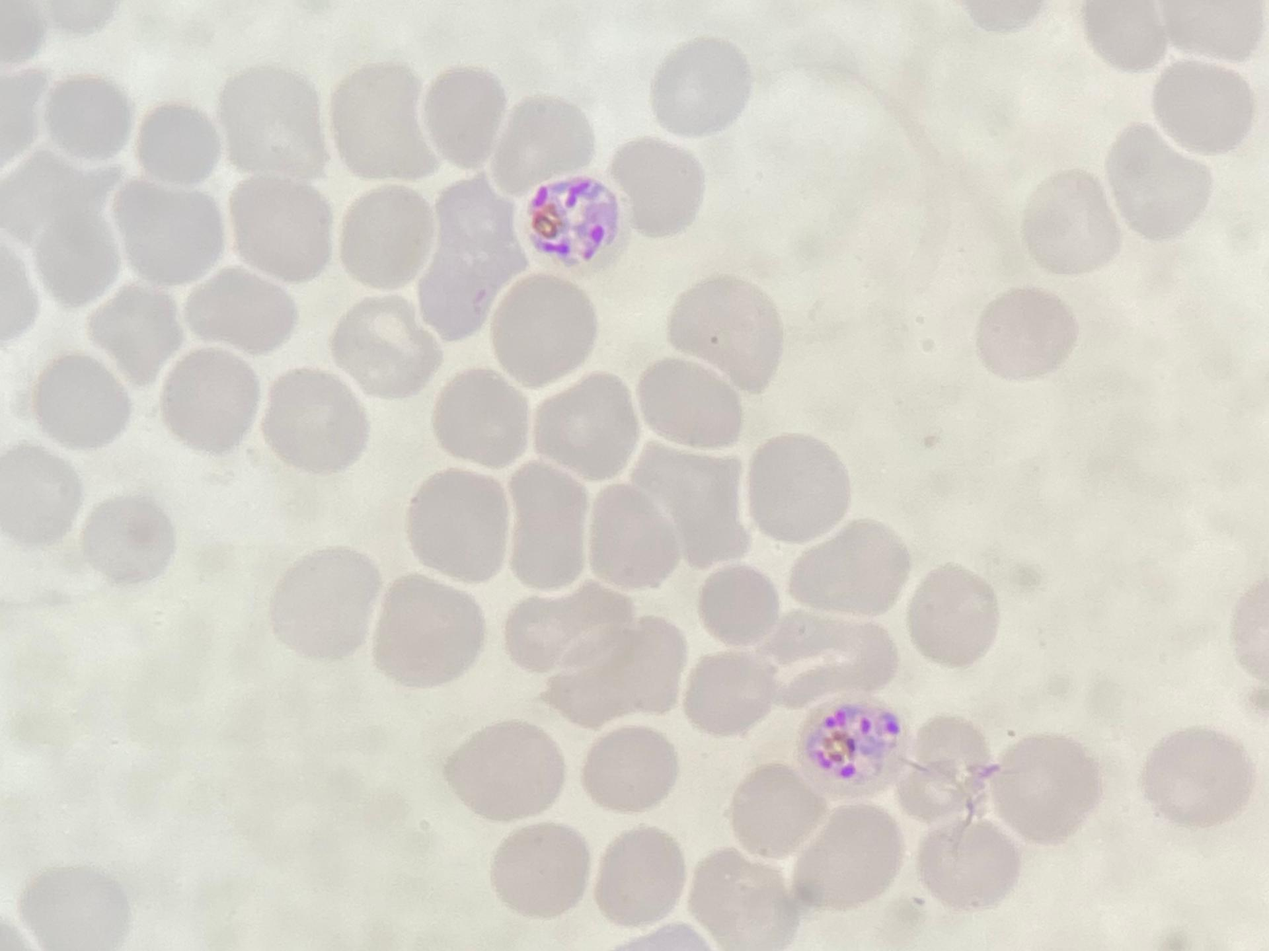Infected: (360, 154, 475, 254), (652, 684, 746, 774)
Uninfected: (736, 605, 849, 778), (581, 219, 736, 342), (313, 644, 435, 782), (518, 378, 639, 506), (483, 556, 605, 676), (781, 260, 899, 374), (1143, 643, 1248, 769), (356, 334, 482, 436), (897, 473, 1011, 585), (164, 106, 278, 217), (886, 290, 1001, 400), (827, 773, 936, 889), (1041, 662, 1152, 775), (669, 562, 778, 677), (941, 771, 1050, 885), (364, 40, 479, 147), (586, 358, 691, 475), (758, 365, 862, 483), (414, 404, 524, 514), (704, 128, 824, 227), (677, 356, 767, 486), (933, 665, 1040, 773), (630, 470, 736, 579), (13, 120, 126, 222), (59, 710, 160, 824), (827, 660, 931, 768), (825, 549, 935, 650), (1006, 493, 1108, 601), (523, 498, 633, 598), (516, 809, 617, 915), (152, 675, 242, 793), (737, 478, 839, 582), (471, 0, 579, 98), (369, 249, 492, 334), (272, 130, 371, 233), (677, 33, 781, 130), (673, 759, 778, 855), (560, 712, 658, 814), (971, 593, 1079, 685), (1084, 562, 1180, 662), (266, 283, 360, 385), (581, 24, 677, 123), (1138, 498, 1235, 595), (442, 92, 540, 186), (1137, 1, 1248, 83), (13, 803, 113, 894), (760, 782, 849, 884), (247, 41, 350, 129), (1093, 364, 1191, 456), (588, 137, 686, 226), (187, 573, 289, 658), (490, 211, 585, 299), (1131, 786, 1223, 874), (1045, 761, 1137, 849), (1184, 408, 1268, 503), (486, 301, 573, 386), (3, 886, 108, 950)
